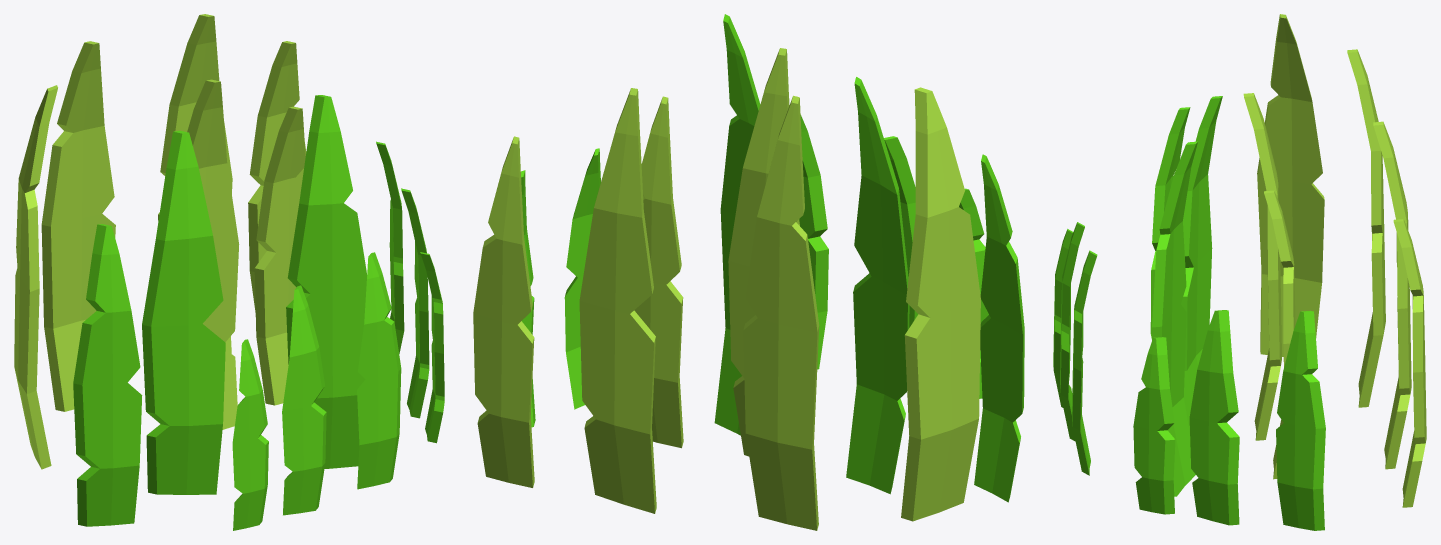
File: trawa.fbx
3 views of the same model, side by side, from view 1: azimuth 30°, elevation 25°; view 2: azimuth 150°, elevation 25°; view 3: azimuth 270°, elevation 25° (orthographic). The views are drawn at different scales.
Visible parts, largest first — view 1: Plane.003; view 2: Plane.003; view 3: Plane.003.
Boxes of the visible parts, x1=… form: Plane.003: x1=14, y1=14, x2=444, y2=530; Plane.003: x1=473, y1=14, x2=1024, y2=530; Plane.003: x1=1053, y1=14, x2=1426, y2=530.
Bounding box in the file's own units: 229 × 219 × 196.
